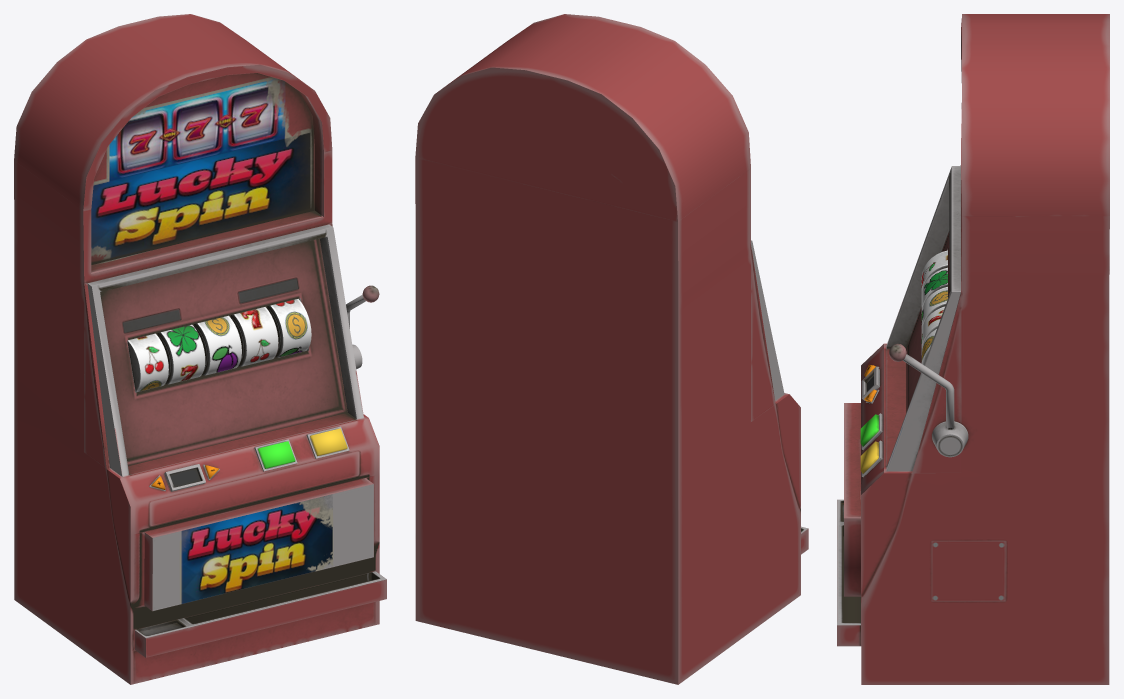
File: slot_machine.glb
The picture shows the model from 3 angles, left to right: view 1: azimuth 30°, elevation 25°; view 2: azimuth 150°, elevation 25°; view 3: azimuth 270°, elevation 25°; orthographic projection. The views are drawn at different scales.
Parts seen in each view (by area): view 1: automat_low; view 2: automat_low; view 3: automat_low.
Part boxes in pixels (<box>): automat_low: <box>14,14,386,684</box>; automat_low: <box>415,14,808,684</box>; automat_low: <box>837,14,1109,684</box>.
Bounding box in the file's own units: 0.6639 × 1.3 × 0.5502.
Materials: 1 (1 with a texture image).
